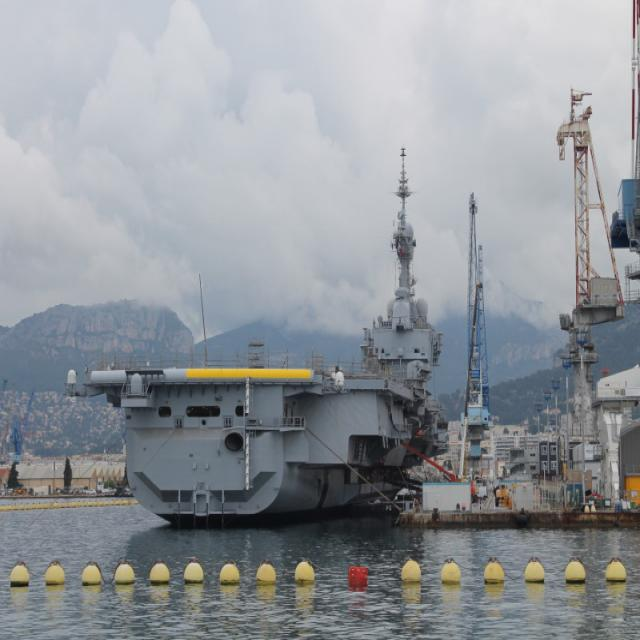Portanaves: (61, 128, 448, 532)
